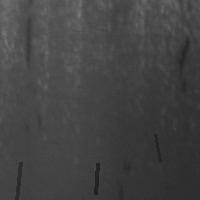inclusion: (166, 33, 198, 107), (20, 10, 38, 74), (25, 106, 43, 135), (14, 160, 22, 200), (153, 132, 162, 163), (93, 161, 99, 196)
